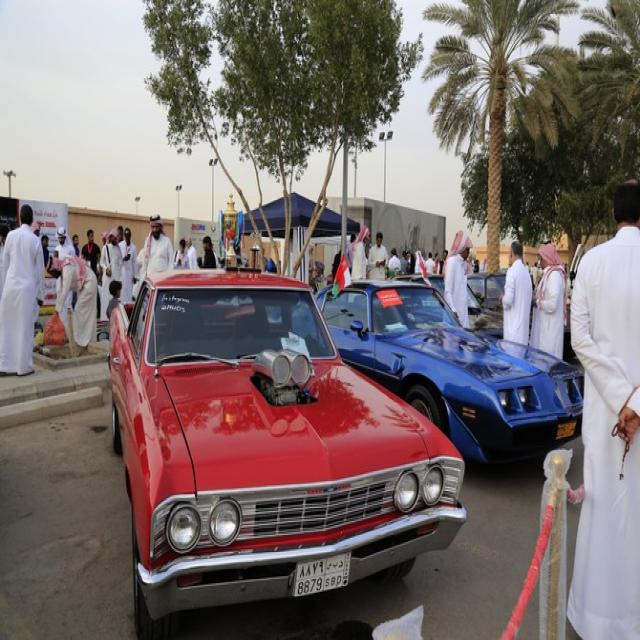license_plate: (292, 545, 354, 599)
